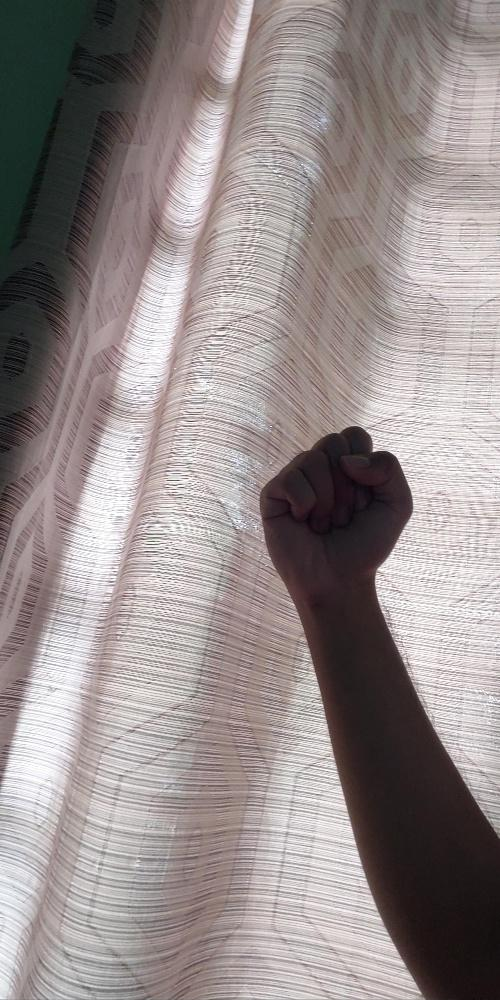s: (257, 422, 414, 598)
